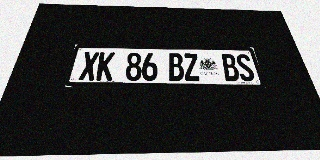6: (142, 53, 158, 81)
8: (125, 52, 142, 81)
B: (220, 54, 241, 81), (168, 53, 185, 81)
K: (95, 52, 115, 80)
S: (235, 54, 256, 81)
X: (78, 52, 99, 80)
Z: (183, 53, 201, 81)
